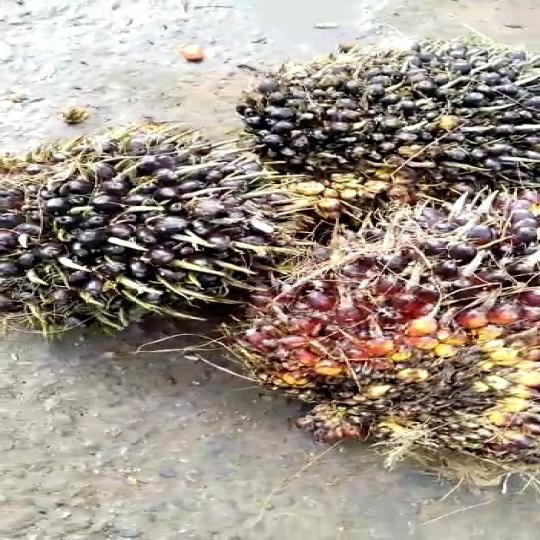mentah: (227, 177, 540, 495), (0, 125, 307, 325), (234, 39, 540, 185)
